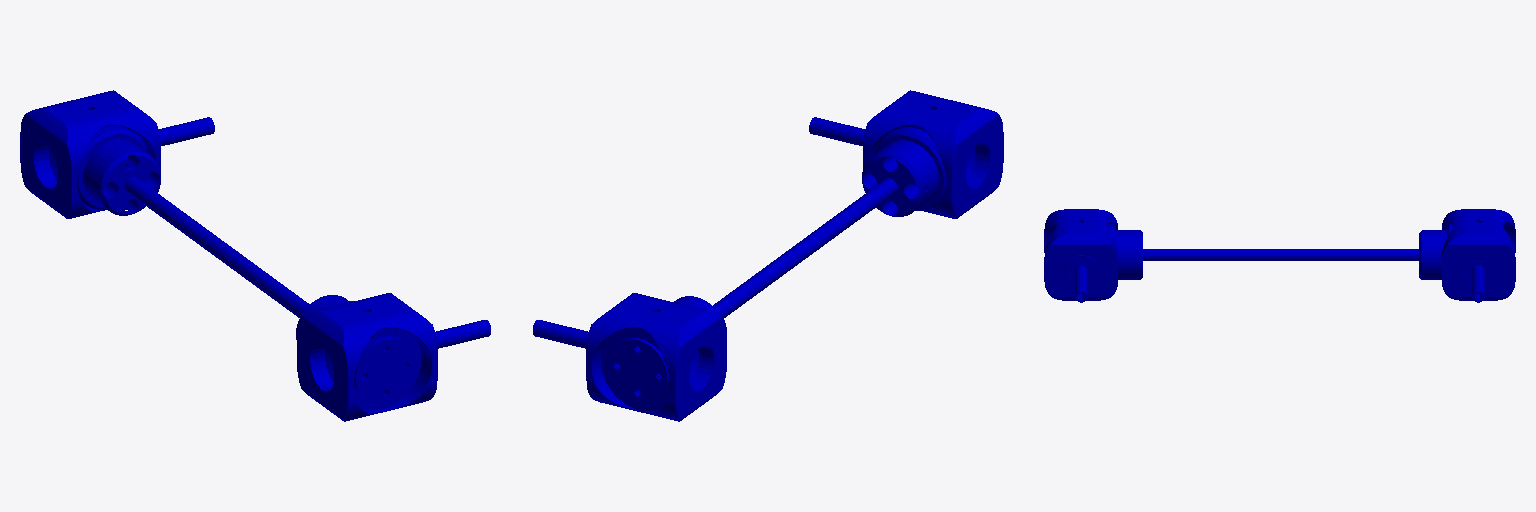
URDF robot description (l1mod):
<?xml version="1.0"?>
<robot  name="l1mod" >
 <material  name="blue" >
  <color  rgba="0 0 0.8 1.0" />
 </material>
 <material  name="red" >
  <color  rgba="0.8 0 0 1.0" />
 </material>
 <material  name="black" >
  <color  rgba="0.0 0.0 0.0 1.0" />
 </material>
 <link  name="l1mod" >
  <visual >
   <origin  rpy="0 0 0"  xyz="0 0 0" />
   <material  name="blue" />
   <geometry >
    <mesh  scale="0.001 0.001 0.001"  filename="./meshes/l1_module.obj" />
   </geometry>
  </visual>
 </link>
</robot>

--- What the picture shows (computed from the rendered views, not written in the file) ---
The picture shows the robot from 3 angles, left to right: view 1: azimuth 30°, elevation 25°; view 2: azimuth 150°, elevation 25°; view 3: azimuth 270°, elevation 25°; orthographic projection.
Model l1mod with 1 links and 0 joints (none), rooted at l1mod, posed every joint at zero.
Visible links, largest first — view 1: l1mod; view 2: l1mod; view 3: l1mod.
Link boxes in pixels (box(x1,y1,x2,y2)): l1mod: box(20, 90, 490, 421); l1mod: box(533, 90, 1003, 421); l1mod: box(1044, 209, 1515, 302).
Bounding box of the posed robot: 0.055 × 0.1894 × 0.0297 m (x, y, z).
1 mesh visuals loaded from 1 distinct referenced files (1 OBJ).